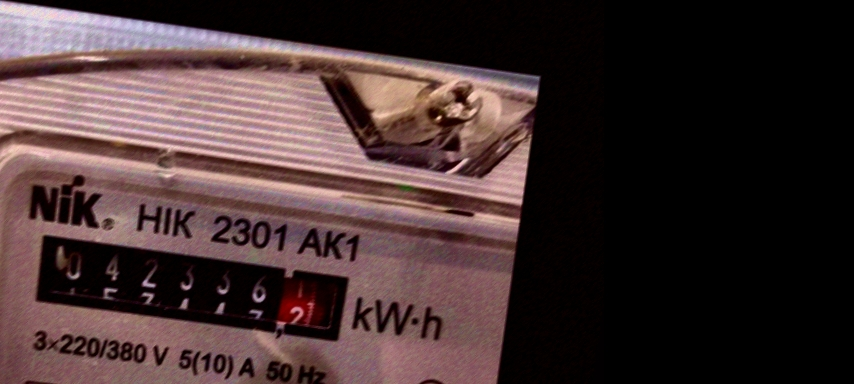0: (59, 247, 83, 282)
1: (289, 273, 304, 301)
2: (135, 254, 160, 290), (282, 303, 302, 327)
3: (172, 258, 194, 292), (211, 263, 232, 297)
4: (100, 249, 121, 283)
6: (245, 270, 269, 307)
screen: (17, 219, 361, 356)
